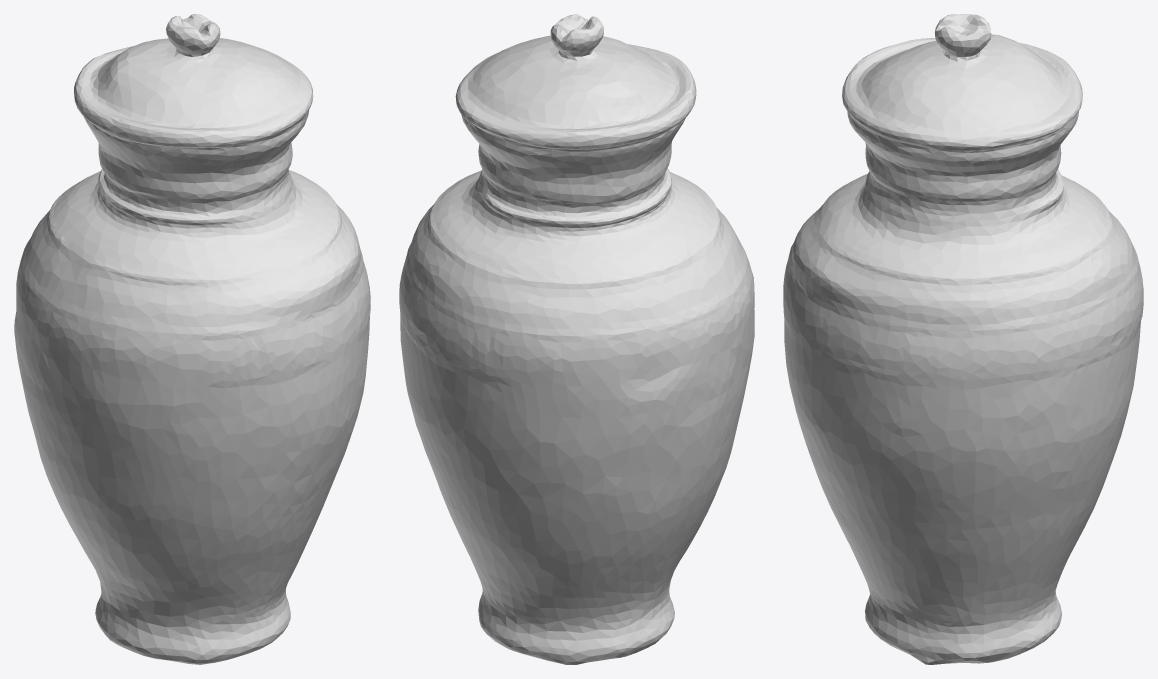
File: urn_ash_r2.glb
The picture shows the model from 3 angles, left to right: view 1: azimuth 30°, elevation 25°; view 2: azimuth 150°, elevation 25°; view 3: azimuth 270°, elevation 25°; orthographic projection.
Visible parts, largest first — view 1: Low; view 2: Low; view 3: Low.
Part boxes in pixels (x1,y1,x2,y2): Low: (14, 14, 370, 664); Low: (399, 14, 754, 664); Low: (783, 14, 1143, 664).
Bounding box in the file's own units: 1.05 × 1.99 × 1.07.
1 material, 1 textured.
